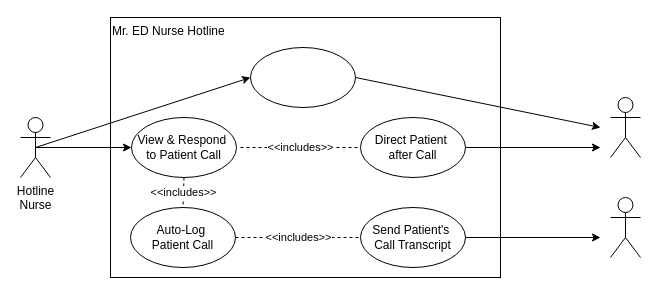
The diagram is 664 pixels wide and 296 high, and some of its shapes have lost their labels. The shapes that lost their labels are listed below. From the top down, each one's box as (x1, y1, x2, y2) in pixels, then its label:
(250, 46, 356, 108): View Summary of Patient Call
(610, 96, 640, 158): Patient
(610, 196, 640, 258): Hospital
